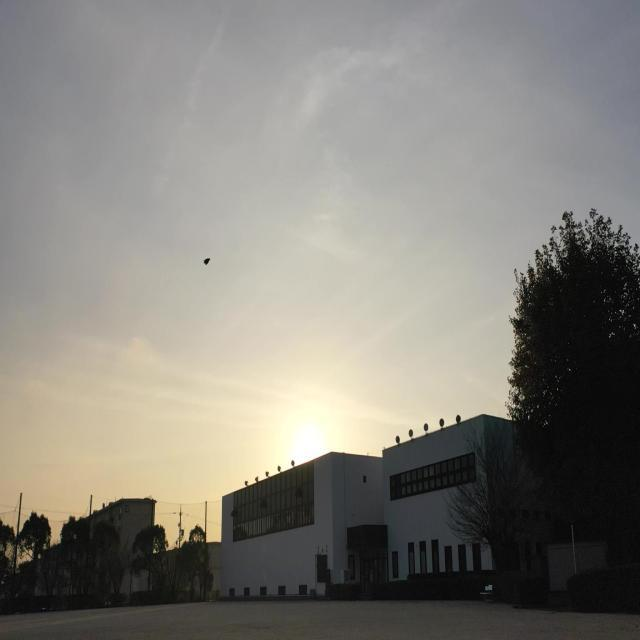Birds: (198, 250, 218, 271)
